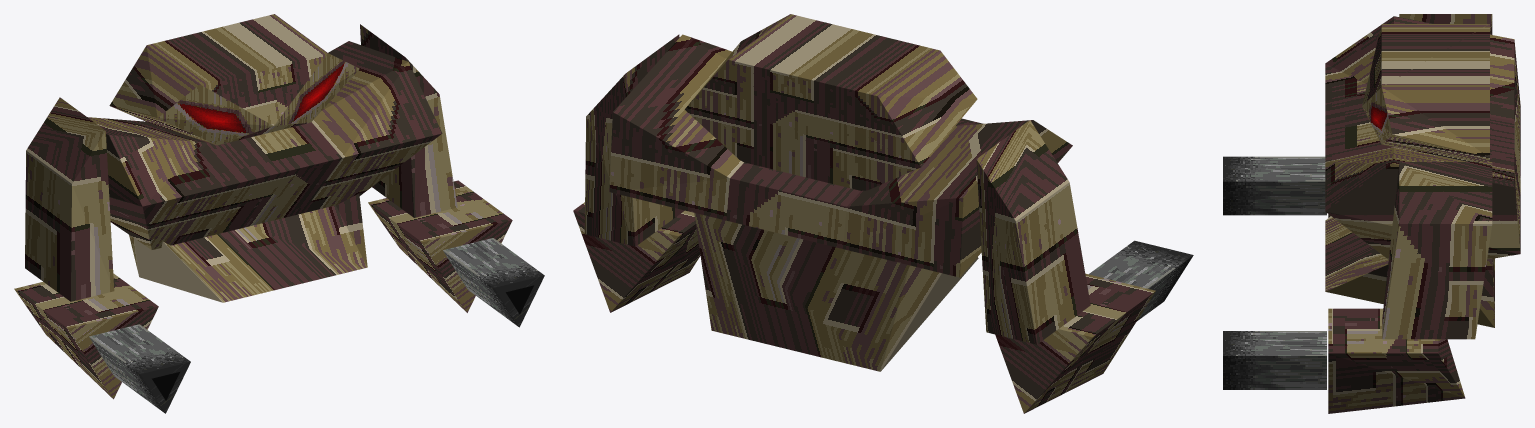
The model's file is Medium_Hulk.obj.
3 views of the same model, side by side, from view 1: azimuth 30°, elevation 25°; view 2: azimuth 150°, elevation 25°; view 3: azimuth 270°, elevation 25° (orthographic). The views are drawn at different scales.
Parts seen in each view (by area): view 1: Medium_Hulk; view 2: Medium_Hulk; view 3: Medium_Hulk.
Boxes of the visible parts, x1,y1,x2,y2 form: Medium_Hulk: (14, 14, 544, 413); Medium_Hulk: (573, 14, 1193, 413); Medium_Hulk: (1223, 14, 1520, 413).
Size of the model in its own units: 11 by 6.35 by 6.33.
Materials: 4 (3 with a texture image).
